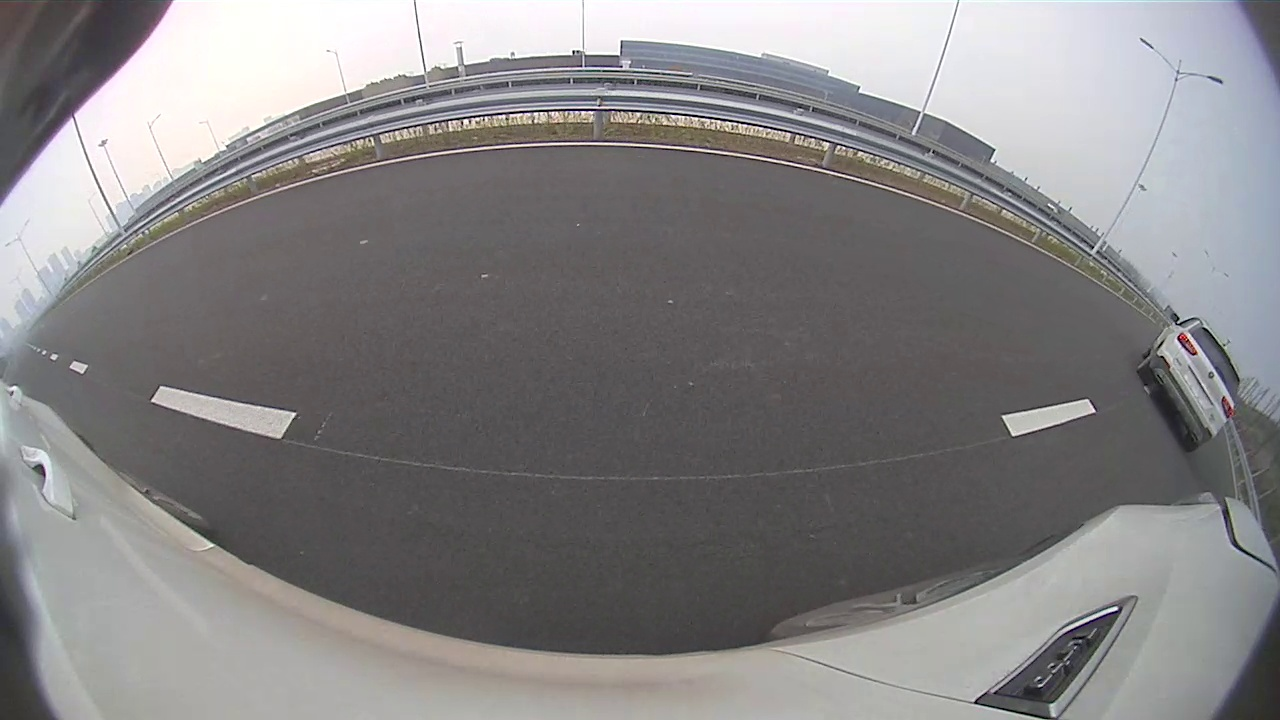car: (1136, 314, 1241, 453)
